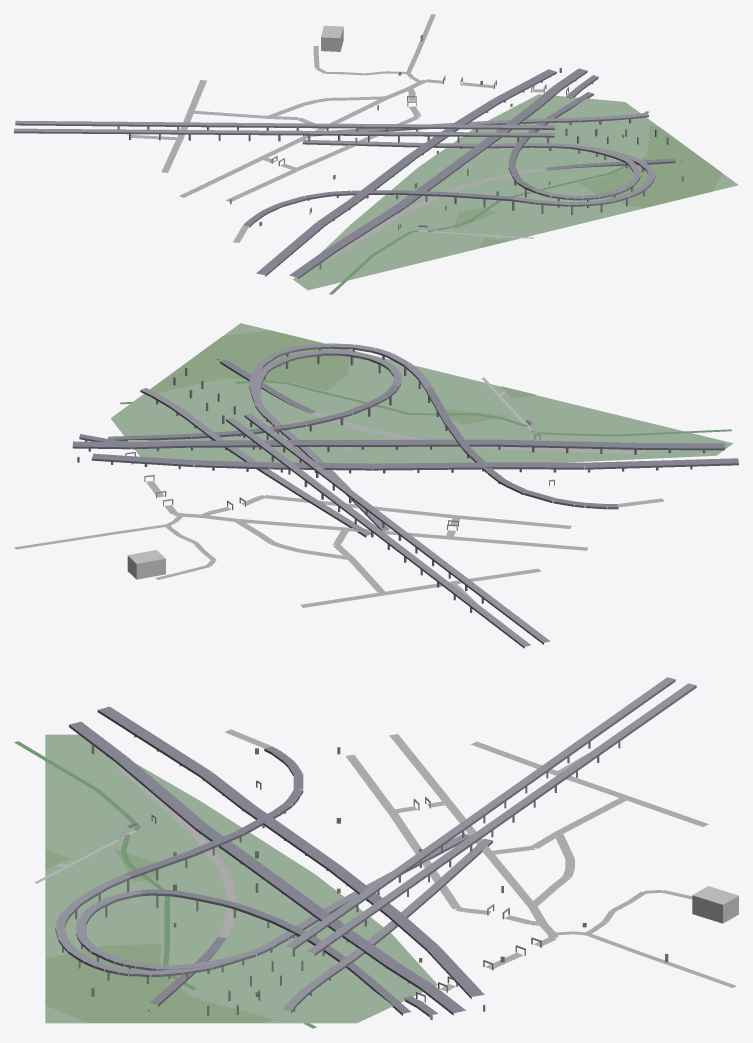
3 views of the same model, one above another, from view 1: azimuth 30°, elevation 25°; view 2: azimuth 150°, elevation 25°; view 3: azimuth 270°, elevation 25° (orthographic). The views are drawn at different scales.
Bounding box in the file's own units: 587 × 17.66 × 531.
